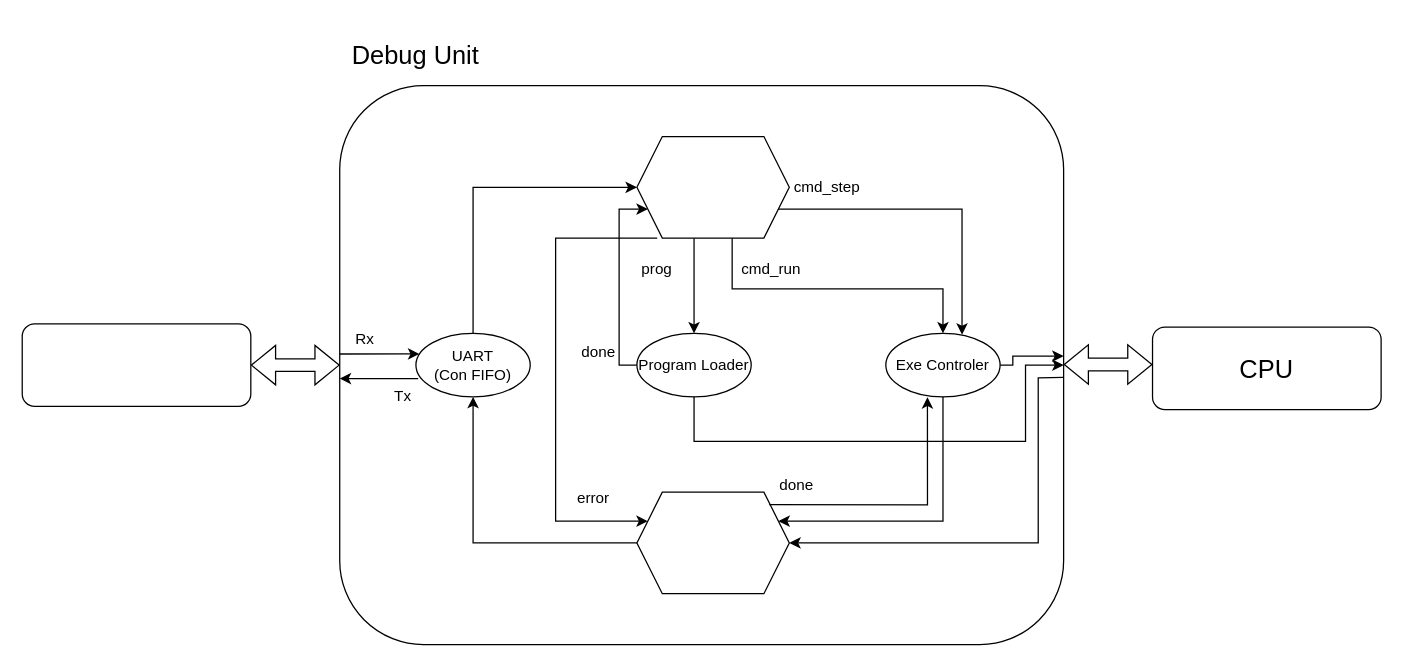
Some shapes in this 1403 by 667 pixel diagram are drawn without their labels. The box of each missing label's shape, as (x1, y1, x2, y2) in pixels:
Command Decoder: (636, 135, 789, 238)
CPU Info Serializer: (636, 491, 789, 594)
PC - TUI: (21, 323, 251, 406)
